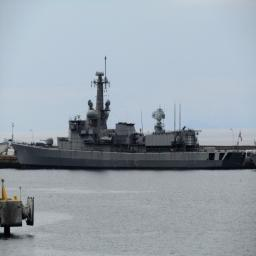Fragata: (10, 64, 250, 171)
